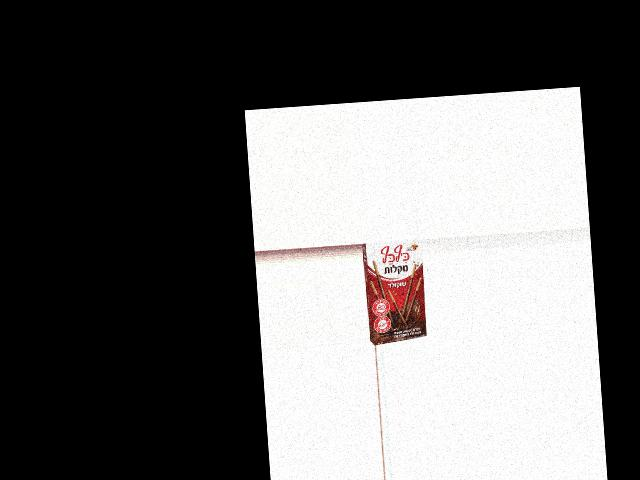chocolate: (362, 239, 428, 339)
